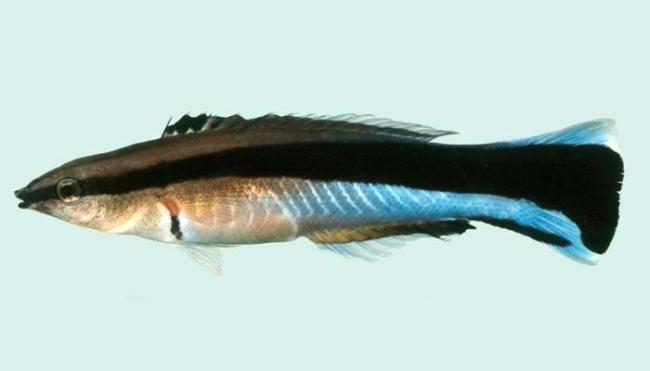fish: (14, 111, 625, 267)
